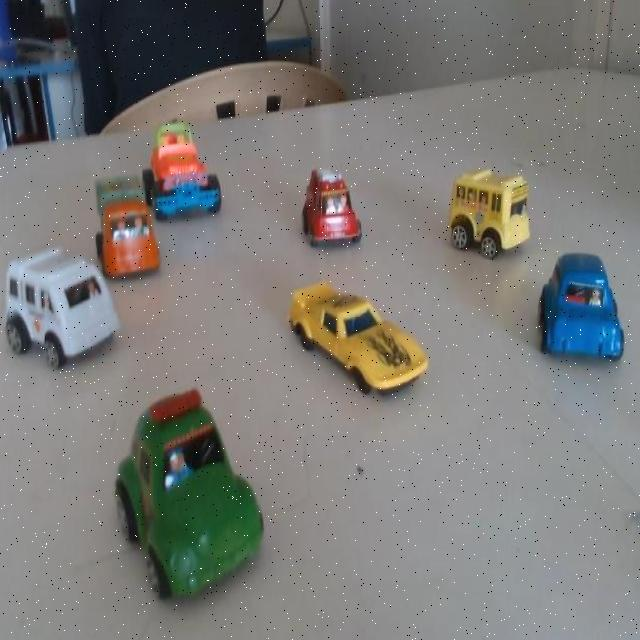car: (96, 392, 268, 597), (284, 272, 428, 404), (0, 231, 123, 385), (538, 251, 631, 371), (147, 113, 230, 219), (440, 168, 524, 266), (91, 164, 159, 283), (289, 159, 361, 261)
